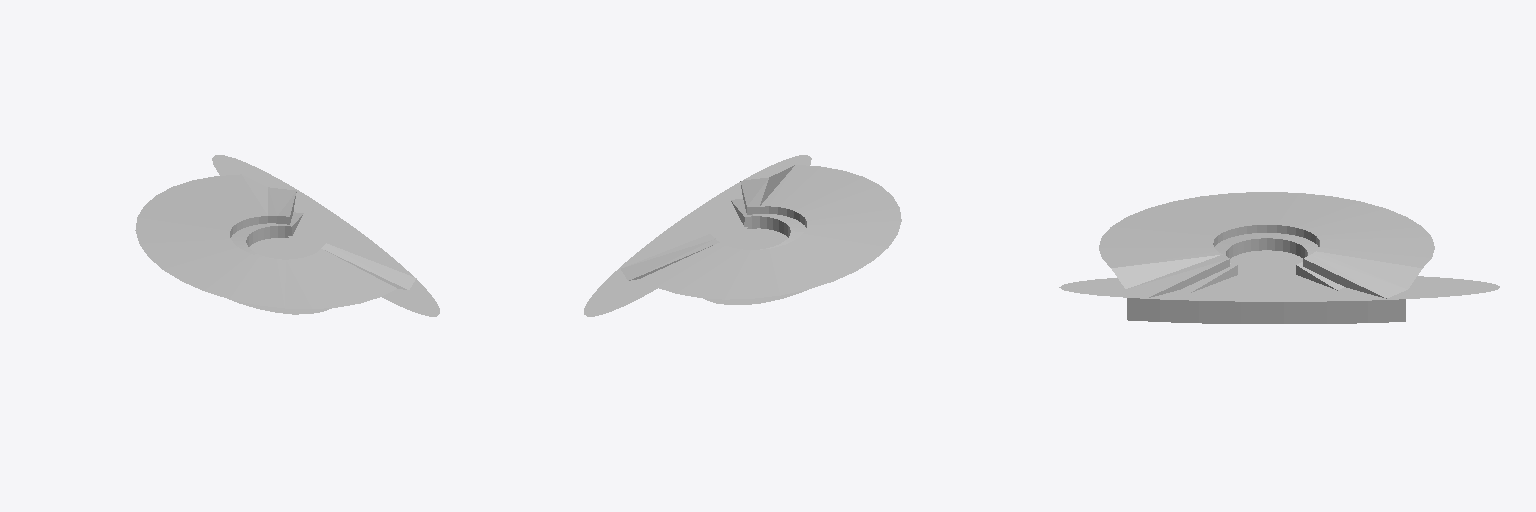
Rendered from Stadium_Floor.obj.
3 views of the same model, side by side, from view 1: azimuth 30°, elevation 25°; view 2: azimuth 150°, elevation 25°; view 3: azimuth 270°, elevation 25° (orthographic).
Parts seen in each view (by area): view 1: Torus.002_Torus.003, Cylinder.001, Cylinder, Torus.001_Torus.002; view 2: Torus.002_Torus.003, Cylinder.001, Cylinder, Torus.001_Torus.002; view 3: Torus.002_Torus.003, Cylinder.001, Torus.001_Torus.002, Cylinder.
Boxes of the visible parts, <box> form: Torus.002_Torus.003: <box>135,174,416,308</box>; Cylinder.001: <box>212,155,439,316</box>; Cylinder: <box>229,238,331,314</box>; Torus.001_Torus.002: <box>231,212,321,259</box>; Torus.002_Torus.003: <box>621,165,901,299</box>; Cylinder.001: <box>584,155,811,316</box>; Cylinder: <box>703,228,808,304</box>; Torus.001_Torus.002: <box>715,199,805,249</box>; Torus.002_Torus.003: <box>1099,192,1434,298</box>; Cylinder.001: <box>1059,273,1499,323</box>; Torus.001_Torus.002: <box>1182,233,1343,292</box>; Cylinder: <box>1230,250,1302,272</box>.
Size of the model in its own units: 8.54 by 1.61 by 16.34.